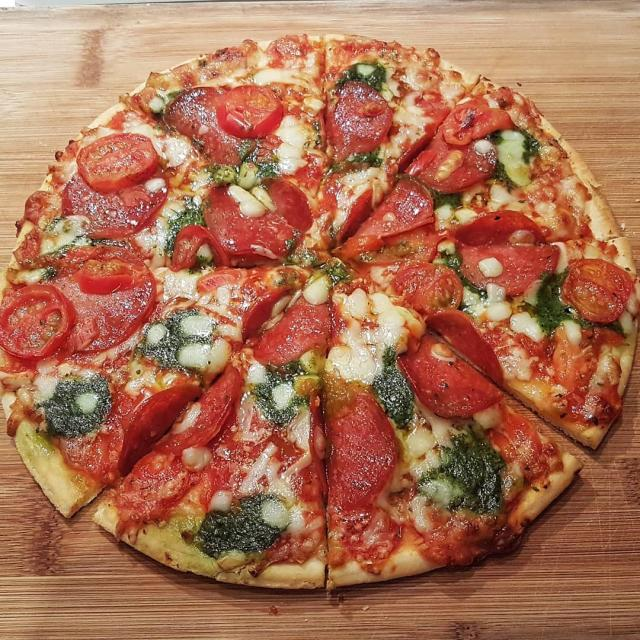pepperoni: (392, 308, 507, 422), (190, 168, 311, 265), (322, 378, 403, 518), (34, 267, 159, 356), (454, 204, 561, 305), (157, 86, 258, 166), (62, 169, 169, 242), (333, 170, 438, 244), (114, 383, 201, 470), (158, 366, 240, 458), (408, 124, 503, 197), (251, 291, 331, 370), (320, 73, 393, 156), (164, 223, 233, 277), (302, 385, 332, 502), (232, 286, 293, 340)
pizza: (0, 32, 640, 596)
tomatoes: (0, 283, 77, 362), (78, 128, 160, 192), (559, 253, 632, 322), (58, 244, 147, 298), (382, 257, 465, 314), (346, 224, 448, 265), (216, 86, 287, 138), (439, 102, 509, 148)
